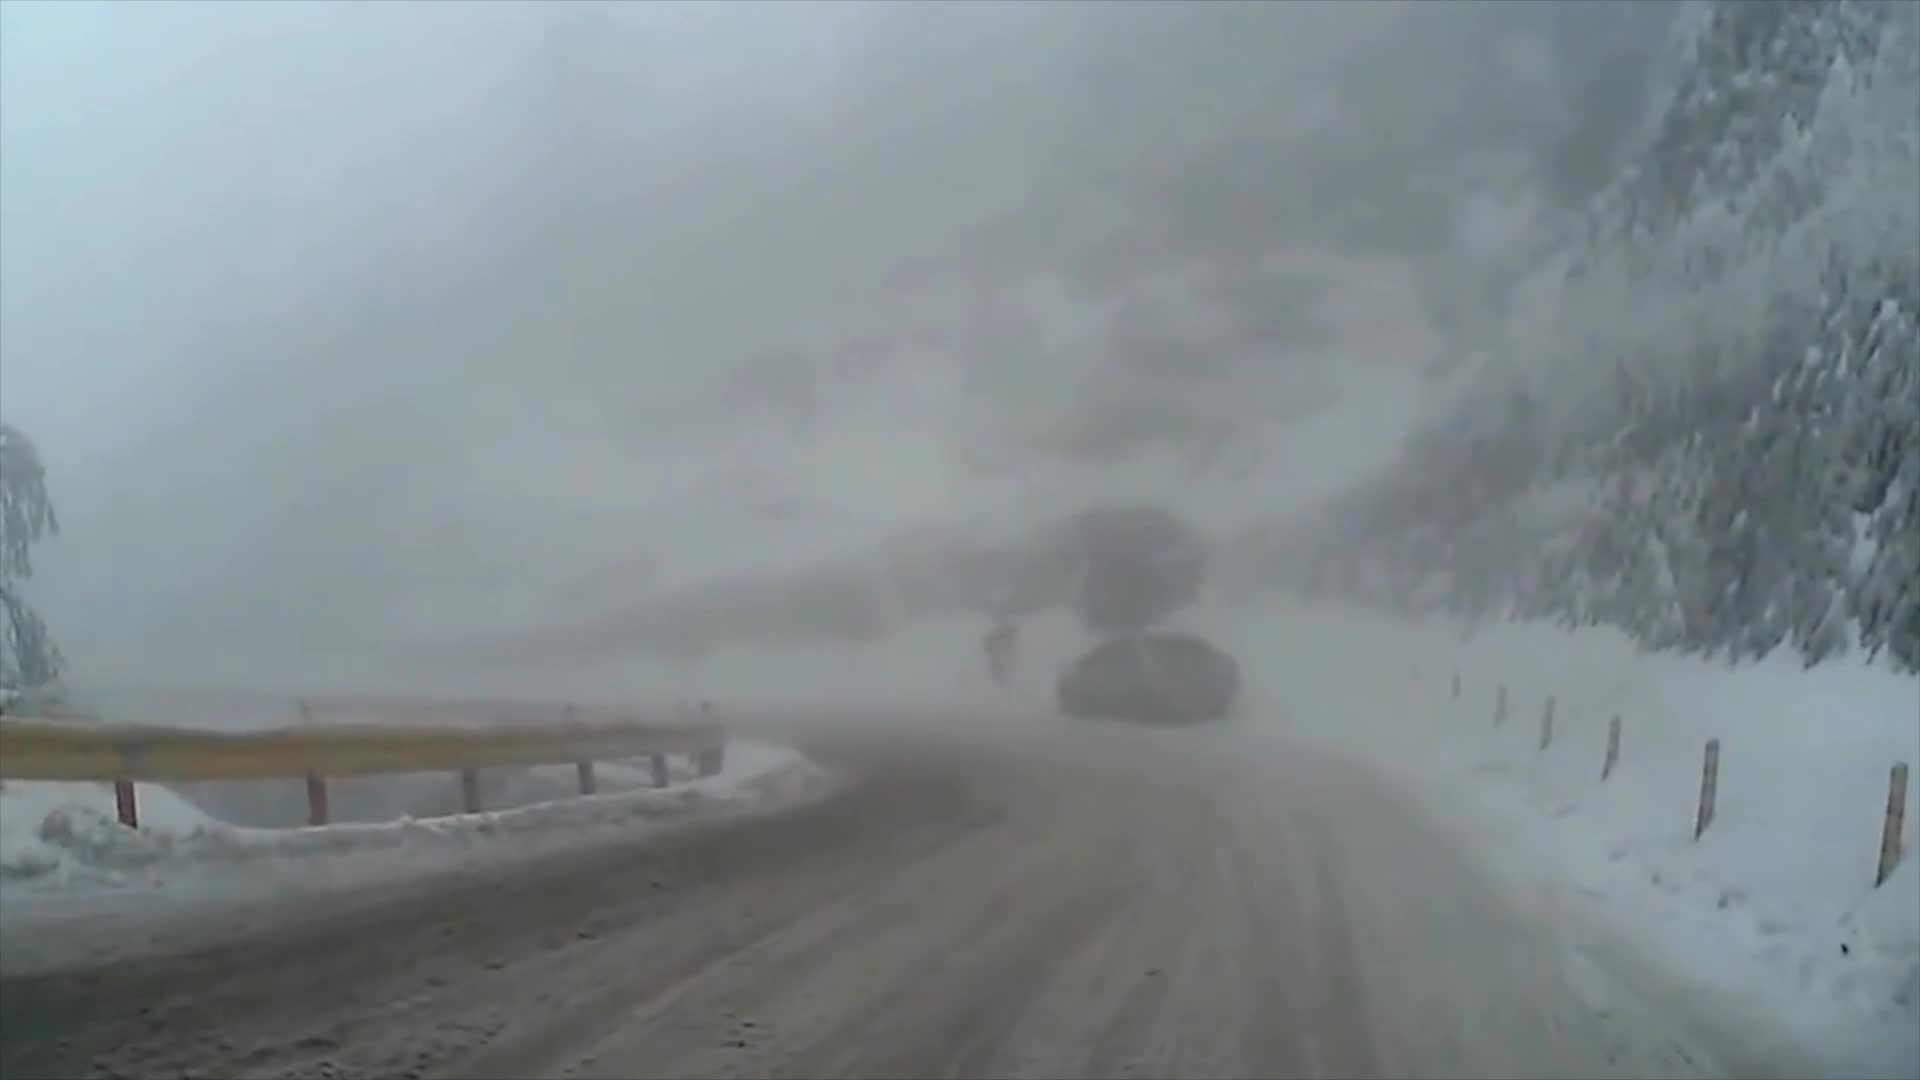pedestrian: (983, 624, 1020, 687)
vehicle: (1055, 631, 1238, 722)
